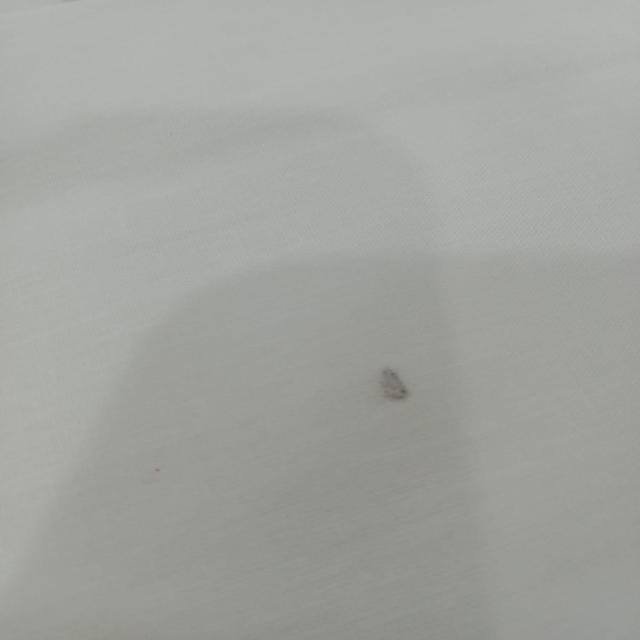stain: (363, 356, 425, 417)
